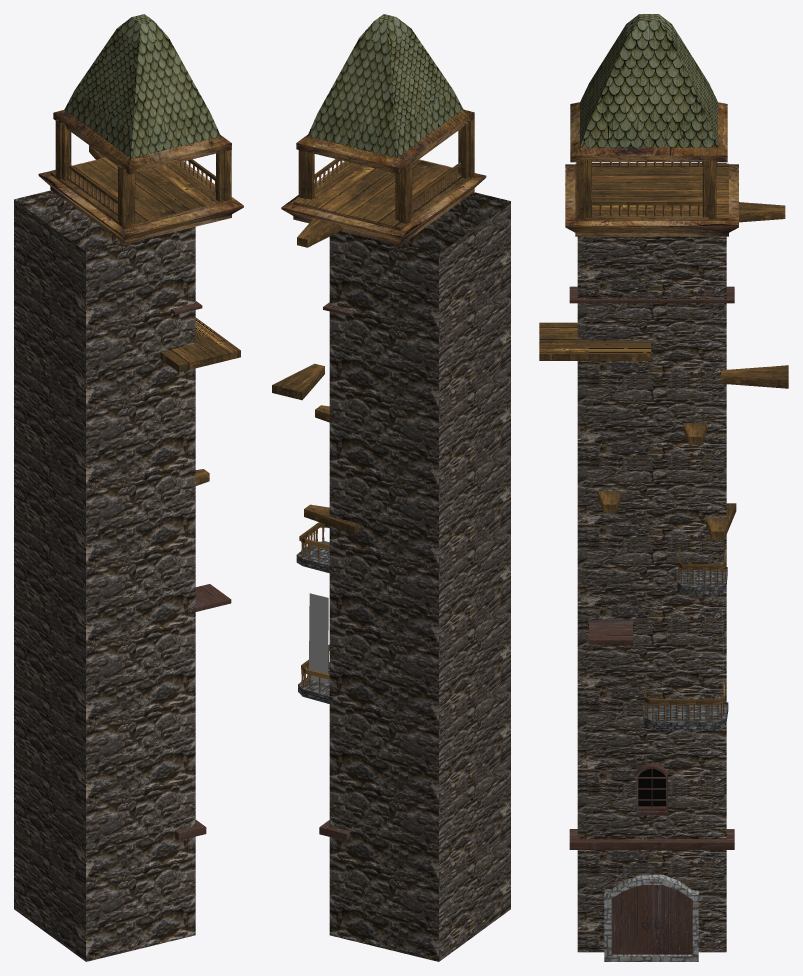
File: BellTowerTest.fbx
The picture shows the model from 3 angles, left to right: view 1: azimuth 30°, elevation 25°; view 2: azimuth 150°, elevation 25°; view 3: azimuth 270°, elevation 25°; orthographic projection. The views are drawn at different scales.
Parts seen in each view (by area): view 1: pCube9, pCube12, pCube31, pCube19, pCube26, pCube20, pCube27, pCube30, pCube11, polySurface2, TowerFlooring, polySurface3 (+7 smaller); view 2: pCube9, pCube19, pCube26, pCube27, pCube12, pCube11, pCube31, pCube30, pCube20, polySurface2, TowerFlooring, polySurface3 (+12 smaller); view 3: polySurface2, pCube12, pCube20, pCube26, pCube19, pCube11, pCube30, pCube27, pCube9, TowerFlooring, pCube31, polySurface3 (+19 smaller).
Part boxes in pixels (<box>): pCube9: <box>14,190,195,331</box>; pCube12: <box>14,358,195,488</box>; pCube31: <box>14,830,195,961</box>; pCube19: <box>14,515,195,646</box>; pCube26: <box>14,595,195,726</box>; pCube20: <box>14,437,195,567</box>; pCube27: <box>14,674,195,805</box>; pCube30: <box>14,752,195,882</box>; pCube11: <box>14,279,195,410</box>; polySurface2: <box>64,14,220,158</box>; TowerFlooring: <box>50,158,231,225</box>; polySurface3: <box>38,157,243,243</box>; pCube9: <box>329,192,510,332</box>; pCube19: <box>329,516,510,647</box>; pCube26: <box>329,595,510,726</box>; pCube27: <box>329,674,510,805</box>; pCube12: <box>329,359,510,490</box>; pCube11: <box>329,280,510,411</box>; pCube31: <box>329,831,510,961</box>; pCube30: <box>329,752,510,883</box>; pCube20: <box>329,438,510,568</box>; polySurface2: <box>307,14,463,157</box>; TowerFlooring: <box>294,160,469,227</box>; polySurface3: <box>281,159,486,245</box>; polySurface2: <box>580,14,717,147</box>; pCube12: <box>577,381,726,463</box>; pCube20: <box>577,463,726,545</box>; pCube26: <box>577,626,726,708</box>; pCube19: <box>577,545,726,626</box>; pCube11: <box>577,303,726,382</box>; pCube30: <box>577,789,726,871</box>; pCube27: <box>577,708,726,789</box>; pCube9: <box>577,163,726,298</box>; TowerFlooring: <box>575,163,728,217</box>; pCube31: <box>577,870,726,952</box>; polySurface3: <box>565,164,738,236</box>.
Bounding box in the file's own units: 166 × 940 × 228.
Materials: 10 (8 with a texture image).
